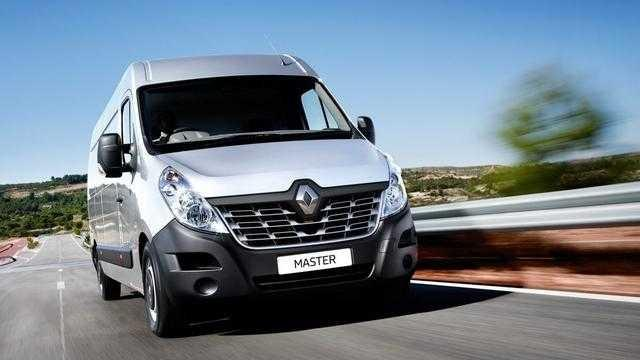car: (82, 48, 424, 342)
